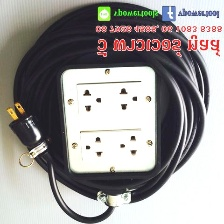three_eye_plug: (57, 59, 162, 178)
